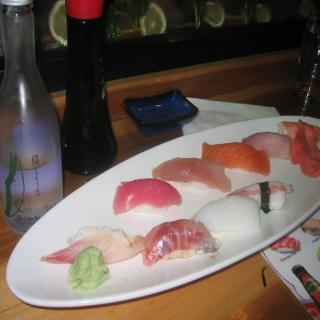Sushi: (41, 226, 149, 266), (142, 227, 218, 269), (152, 156, 232, 192), (191, 196, 261, 234), (113, 179, 183, 214), (202, 142, 270, 174), (231, 182, 294, 210), (241, 136, 293, 160)
